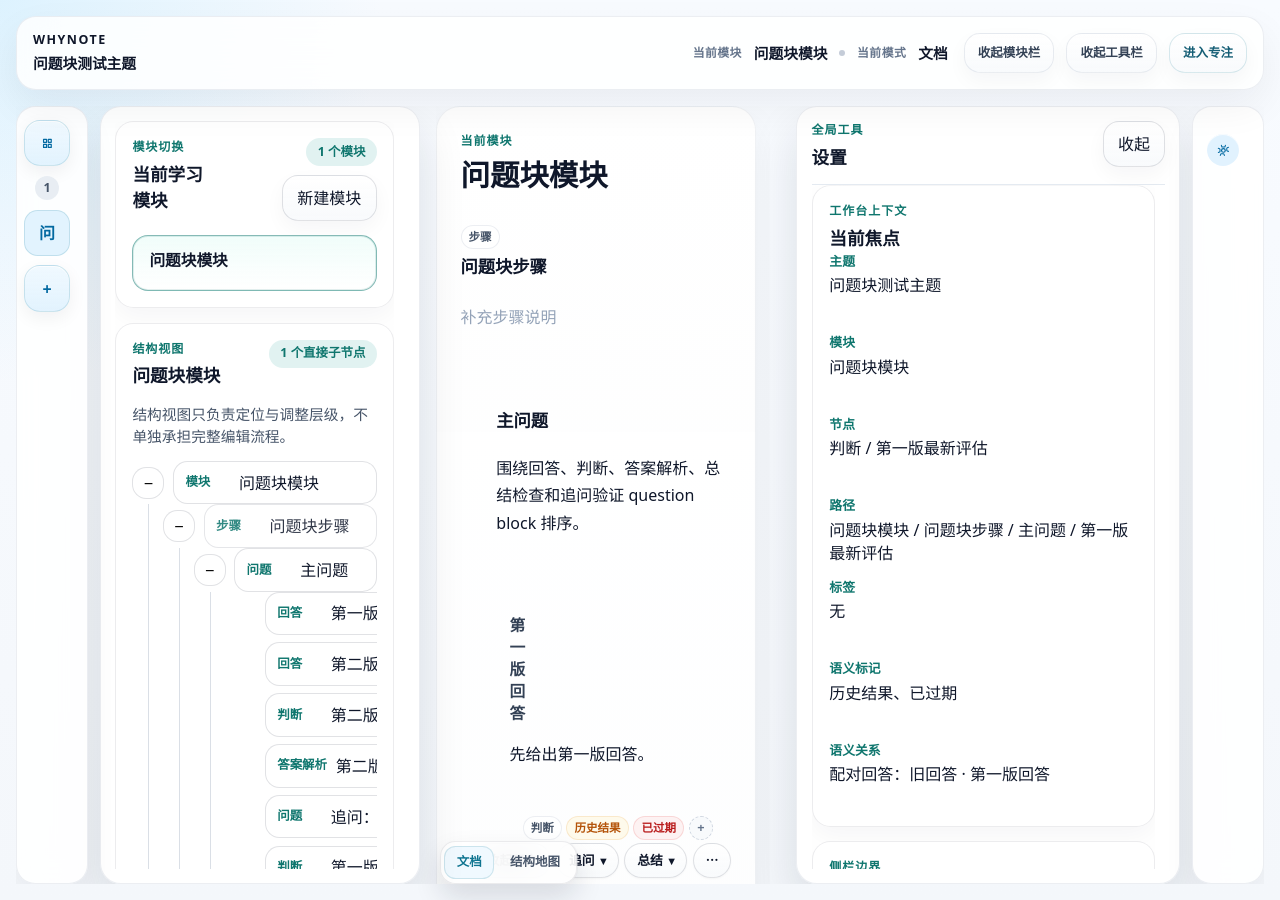
keeps low-frequency actions in ⋯ on judgment-first-latest
Click the button "⋯" at (712, 860), box [693, 843, 731, 878]
(page scrolled)
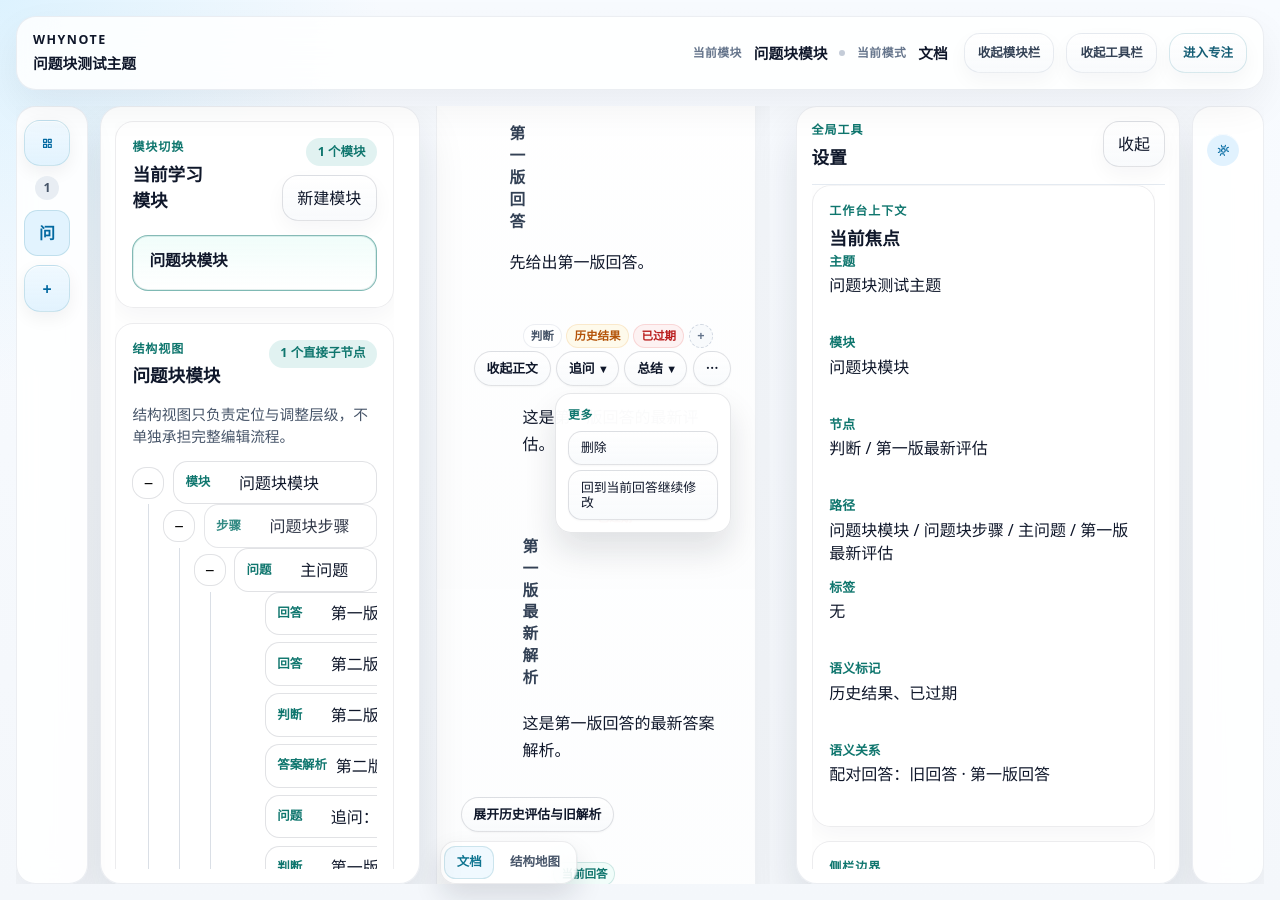
Now the button "删除" is shown, box [568, 431, 718, 465]
Now the button "回到当前回答继续修改" is shown, box [568, 470, 718, 520]
